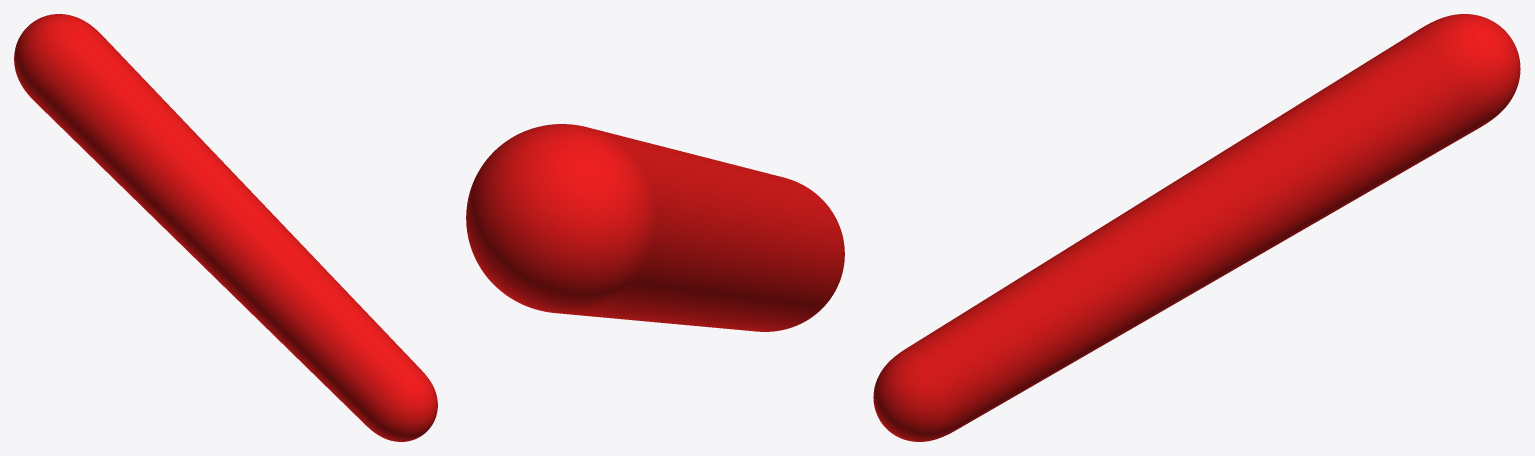
The model's file is wrinkle1.obj.
3 views of the same model, side by side, from view 1: azimuth 30°, elevation 25°; view 2: azimuth 150°, elevation 25°; view 3: azimuth 270°, elevation 25° (orthographic). The views are drawn at different scales.
Parts seen in each view (by area): view 1: model_5; view 2: model_5; view 3: model_5.
Part boxes in pixels (x1=…): model_5: x1=14, y1=14, x2=437, y2=441; model_5: x1=466, y1=124, x2=844, y2=331; model_5: x1=873, y1=14, x2=1520, y2=441.
Size of the model in its own units: 72.45 by 104 by 175.
Materials: 1 (1 with a texture image).
